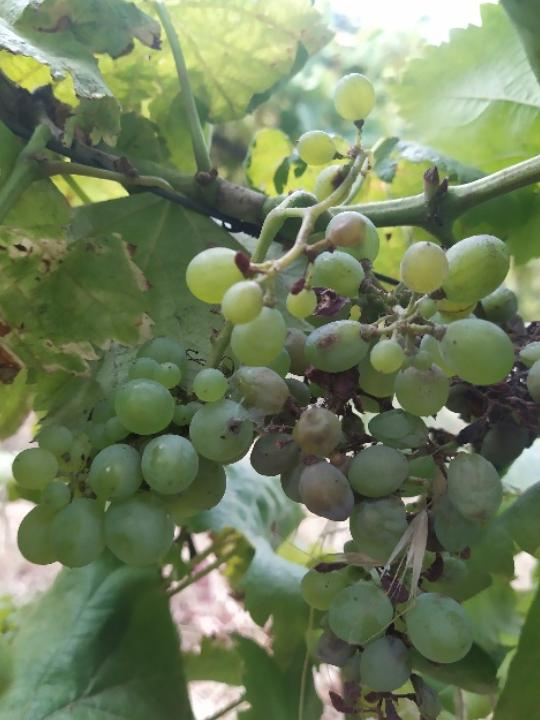grape: (182, 206, 540, 720)
